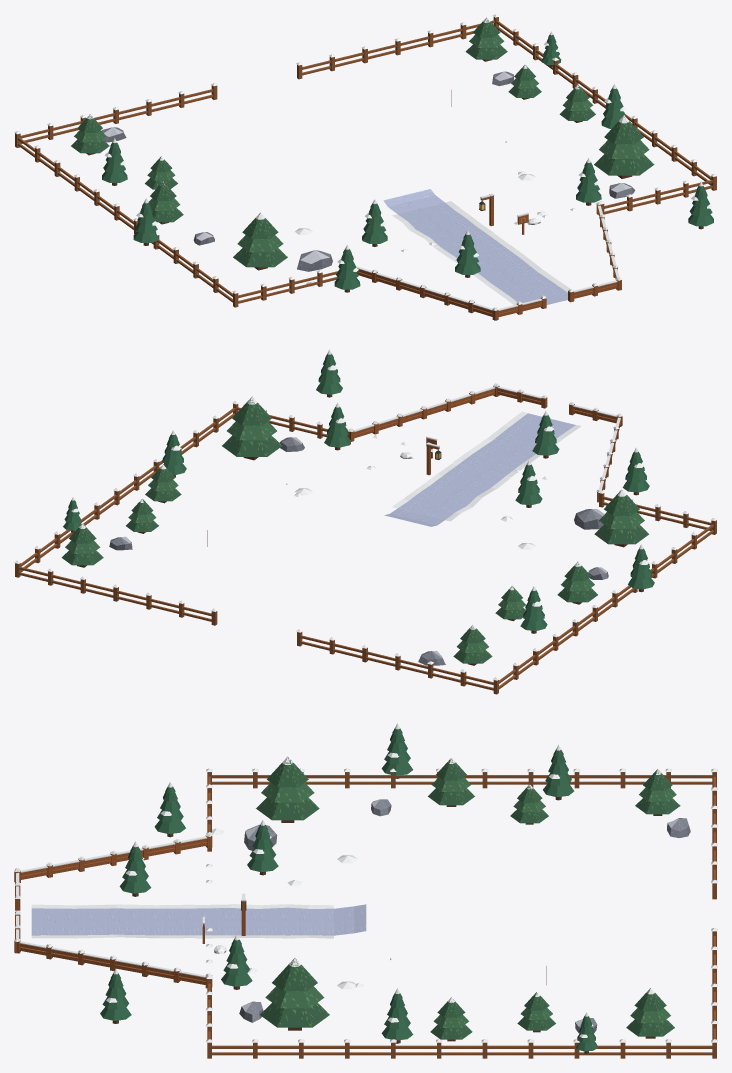
File: Exterior.obj
3 renders of one model, top to bottom at view 1: azimuth 30°, elevation 25°; view 2: azimuth 150°, elevation 25°; view 3: azimuth 270°, elevation 25°, orthographic. The views are drawn at different scales.
Visible parts, largest first — view 1: 98_Ext_Cerca, EXT_03_Pino_1_Copa_0, EXT_01_Camino_Tramo_09, EXT_01_Camino_Tramo_08, 98_Ext_Pino_1, 98_Ext_Pino_1.002, 98_Ext_Pino_1.001, 98_Ext_Pino_1.007, EXT_03_Pino_0_Copa_0, 98_Ext_Pino_1.003, 98_Ext_Pino_1.005, 98_Ext_Pino_1.004 (+13 smaller); view 2: 98_Ext_Cerca, EXT_03_Pino_1_Copa_0, EXT_01_Camino_Tramo_08, EXT_03_Pino_0_Copa_0, EXT_01_Camino_Tramo_06, EXT_01_Camino_Tramo_07, 98_Ext_Pino_1.004, 98_Ext_Pino_1.003, 98_Ext_Pino_1, 98_Ext_Pino_1.005, 98_Ext_Pino_1.002, 98_Ext_Pino_1.007 (+9 smaller); view 3: 98_Ext_Cerca, EXT_01_Camino_Tramo_10, EXT_03_Pino_1_Copa_0, EXT_01_Camino_Tramo_08, EXT_01_Camino_Tramo_09, EXT_01_Camino_Tramo_07, EXT_03_Pino_0_Copa_0, 98_Ext_Pino_1.003, 98_Ext_Pino_1.007, 98_Ext_Pino_1.004, 98_Ext_Pino_1.002, 98_Ext_Pino_1 (+17 smaller).
Part boxes in pixels (left/top/right/bottom): 98_Ext_Cerca: left=356, top=201, right=622, bottom=320; EXT_03_Pino_1_Copa_0: left=594, top=154, right=654, bottom=175; EXT_01_Camino_Tramo_09: left=491, top=271, right=556, bottom=295; EXT_01_Camino_Tramo_08: left=478, top=258, right=536, bottom=282; 98_Ext_Pino_1: left=362, top=199, right=387, bottom=246; 98_Ext_Pino_1.002: left=576, top=158, right=601, bottom=205; 98_Ext_Pino_1.001: left=334, top=245, right=360, bottom=292; 98_Ext_Pino_1.007: left=688, top=181, right=713, bottom=229; EXT_03_Pino_0_Copa_0: left=233, top=248, right=287, bottom=267; 98_Ext_Pino_1.003: left=455, top=230, right=480, bottom=277; 98_Ext_Pino_1.005: left=133, top=198, right=159, bottom=245; 98_Ext_Pino_1.004: left=102, top=138, right=127, bottom=185; 98_Ext_Cerca: left=349, top=383, right=622, bottom=502; EXT_03_Pino_1_Copa_0: left=222, top=435, right=281, bottom=456; EXT_01_Camino_Tramo_08: left=473, top=440, right=535, bottom=464; EXT_03_Pino_0_Copa_0: left=594, top=524, right=648, bottom=544; EXT_01_Camino_Tramo_06: left=443, top=465, right=504, bottom=487; EXT_01_Camino_Tramo_07: left=458, top=454, right=519, bottom=476; 98_Ext_Pino_1.004: left=520, top=586, right=547, bottom=633; 98_Ext_Pino_1.003: left=532, top=411, right=559, bottom=458; 98_Ext_Pino_1: left=515, top=460, right=542, bottom=507; 98_Ext_Pino_1.005: left=628, top=544, right=654, bottom=592; 98_Ext_Pino_1.002: left=324, top=402, right=350, bottom=450; 98_Ext_Pino_1.007: left=316, top=349, right=342, bottom=397; 98_Ext_Cerca: left=14, top=833, right=212, bottom=988; EXT_01_Camino_Tramo_10: left=31, top=908, right=74, bottom=935; EXT_03_Pino_1_Copa_0: left=260, top=1002, right=329, bottom=1027; EXT_01_Camino_Tramo_08: left=117, top=908, right=159, bottom=935; EXT_01_Camino_Tramo_09: left=74, top=908, right=116, bottom=935; EXT_01_Camino_Tramo_07: left=159, top=908, right=195, bottom=935; EXT_03_Pino_0_Copa_0: left=256, top=797, right=319, bottom=820; 98_Ext_Pino_1.003: left=119, top=841, right=151, bottom=896; 98_Ext_Pino_1.007: left=100, top=968, right=131, bottom=1023; 98_Ext_Pino_1.004: left=543, top=745, right=574, bottom=800; 98_Ext_Pino_1.002: left=221, top=934, right=252, bottom=989; 98_Ext_Pino_1: left=247, top=820, right=278, bottom=875.
Bounding box in the file's own units: 95.45 × 10.92 × 98.94.
17 materials, 17 textured.
